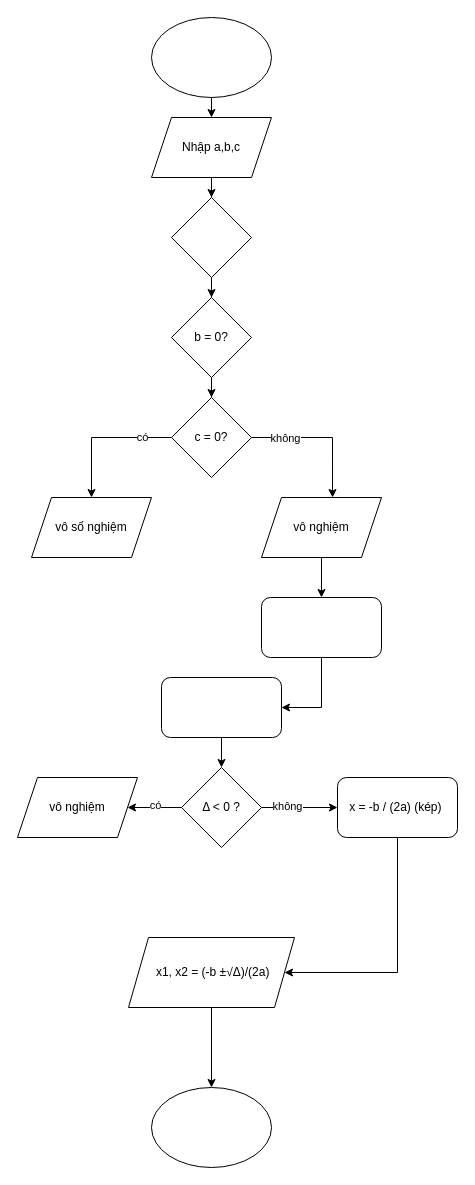
Some shapes in this 475 by 1185 pixel diagram are drawn without their labels. Each missing label, with the box of its shape:
a = 0?: (170, 196, 252, 278)
Bắt đầu: (150, 16, 272, 98)
kết thúc: (150, 1086, 272, 1168)
tính Δ = b² - 4ac: (160, 676, 282, 738)
x = -c / b: (260, 596, 382, 658)
